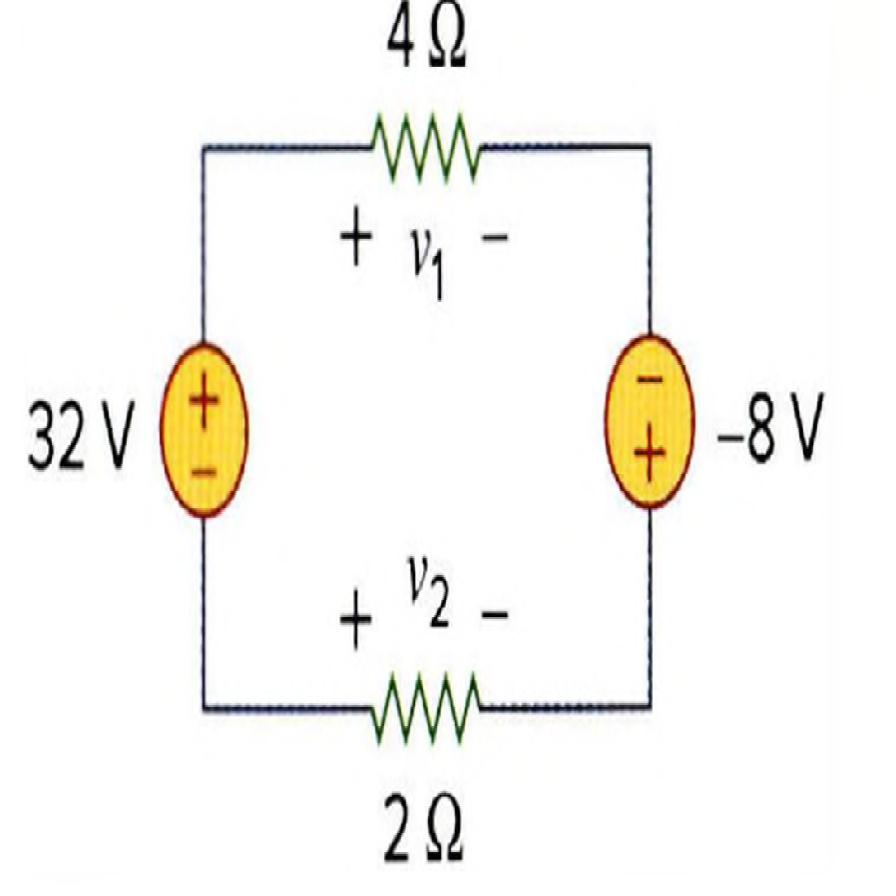R1: (362, 653, 495, 774), (363, 92, 490, 207)
V1: (149, 330, 263, 538)
V3: (597, 310, 704, 521)
